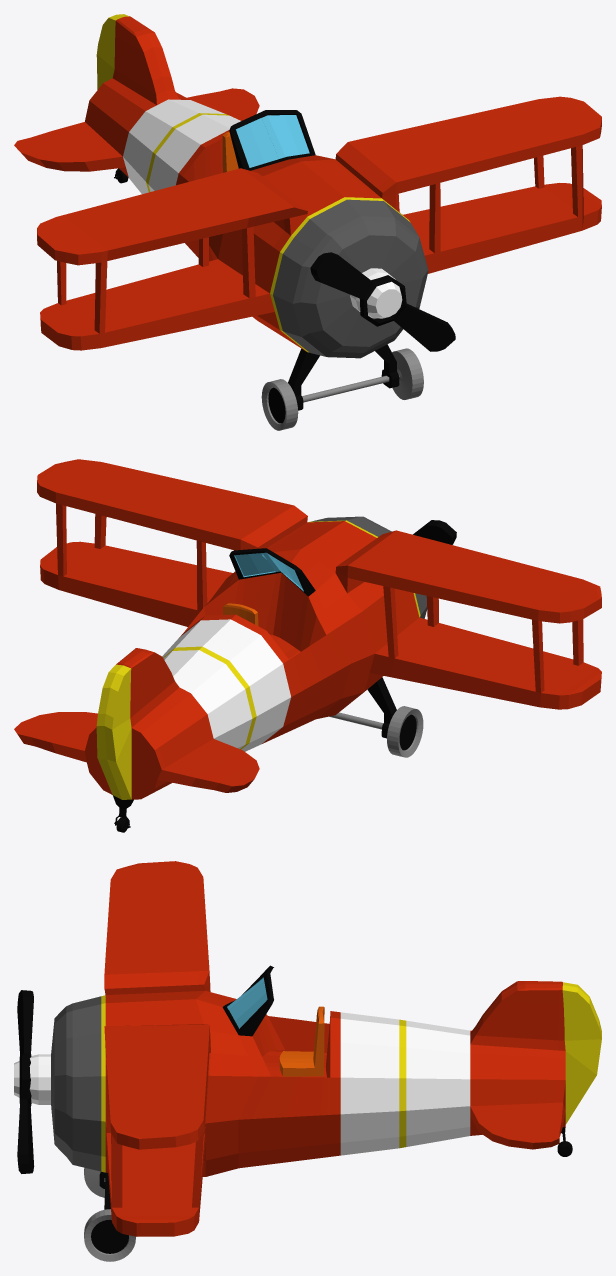
The model's file is Toy Plane.glb.
3 renders of one model, top to bottom at view 1: azimuth 30°, elevation 25°; view 2: azimuth 150°, elevation 25°; view 3: azimuth 270°, elevation 25°, orthographic. The views are drawn at different scales.
Visible parts, largest first — view 1: Body, Blades, Front Wheels; view 2: Body, Front Wheels, Blades; view 3: Body, Blades, Front Wheels.
Part boxes in pixels (bbox=[...]): Body: bbox=[14, 14, 601, 410]; Blades: bbox=[310, 252, 455, 351]; Front Wheels: bbox=[261, 348, 423, 430]; Body: bbox=[14, 459, 601, 828]; Front Wheels: bbox=[329, 706, 423, 757]; Blades: bbox=[413, 520, 456, 544]; Body: bbox=[14, 861, 601, 1236]; Blades: bbox=[17, 990, 34, 1173]; Front Wheels: bbox=[84, 1167, 135, 1261].
Size of the model in its own units: 6.06 by 2.61 by 5.46.
